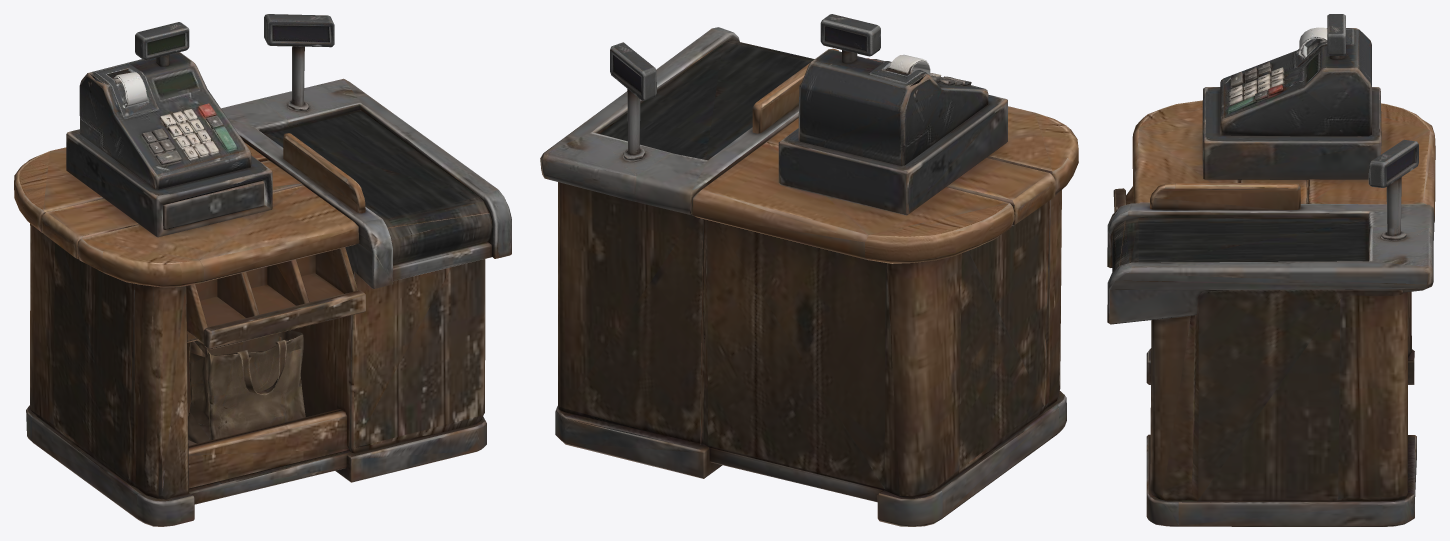
Rendered from register.glb.
3 renders of one model, left to right at view 1: azimuth 30°, elevation 25°; view 2: azimuth 150°, elevation 25°; view 3: azimuth 270°, elevation 25°, orthographic. The views are drawn at different scales.
Parts seen in each view (by area): view 1: register; view 2: register; view 3: register.
Boxes of the visible parts, x1=… form: register: x1=14, y1=14, x2=511, y2=526; register: x1=540, y1=14, x2=1078, y2=526; register: x1=1107, y1=14, x2=1435, y2=526.
Bounding box in the file's own units: 1.04 × 1.08 × 0.82.
Materials: 1 (1 with a texture image).
